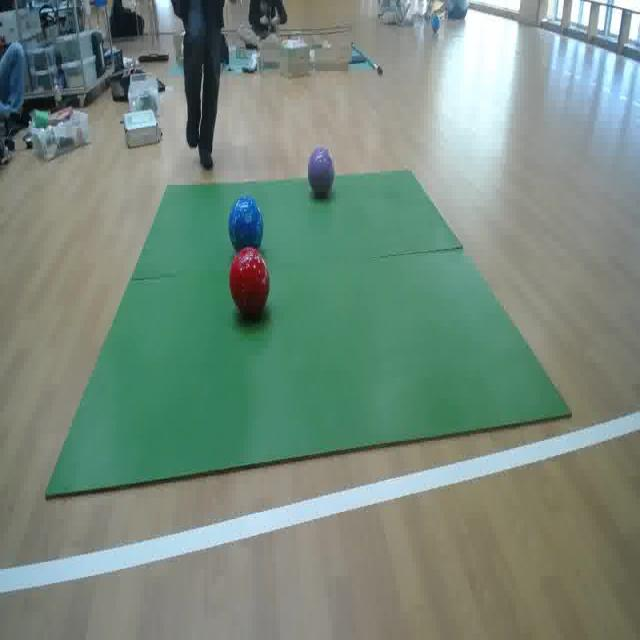blue_ball: (229, 197, 263, 248)
purple_ball: (308, 146, 334, 194)
red_ball: (228, 247, 270, 314)
